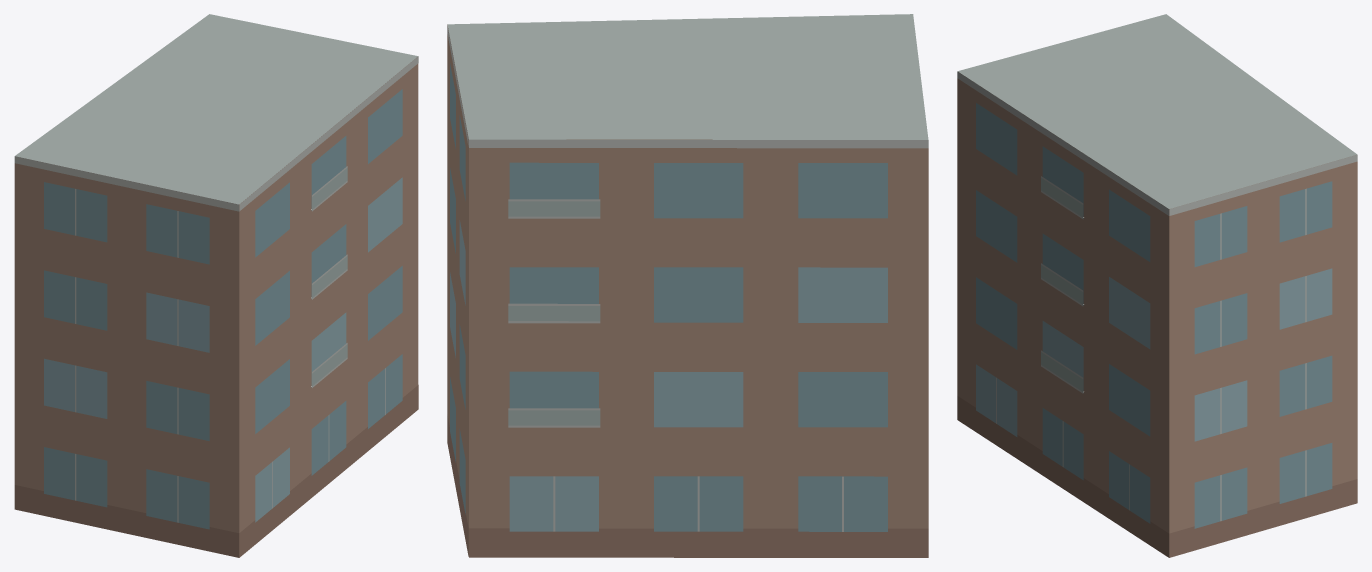
Rendered from survey-upis-32650935.glb.
3 renders of one model, left to right at view 1: azimuth 30°, elevation 25°; view 2: azimuth 150°, elevation 25°; view 3: azimuth 270°, elevation 25°, orthographic. The views are drawn at different scales.
Parts seen in each view (by area): view 1: survey-upis-32650935.tmp; view 2: survey-upis-32650935.tmp; view 3: survey-upis-32650935.tmp.
Boxes of the visible parts, bbox=[...] form: survey-upis-32650935.tmp: bbox=[14, 14, 418, 557]; survey-upis-32650935.tmp: bbox=[447, 14, 928, 557]; survey-upis-32650935.tmp: bbox=[957, 14, 1357, 557].
Size of the model in its own units: 14.65 by 12.2 by 12.69.
